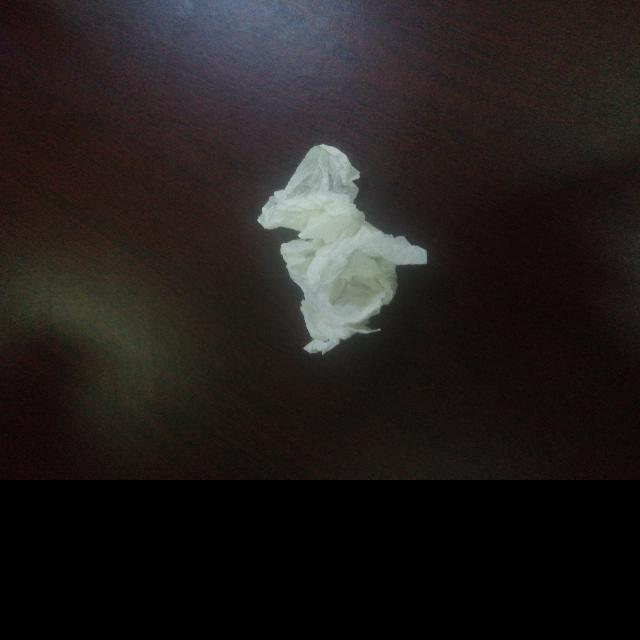kitchen paper: (250, 140, 434, 359)
